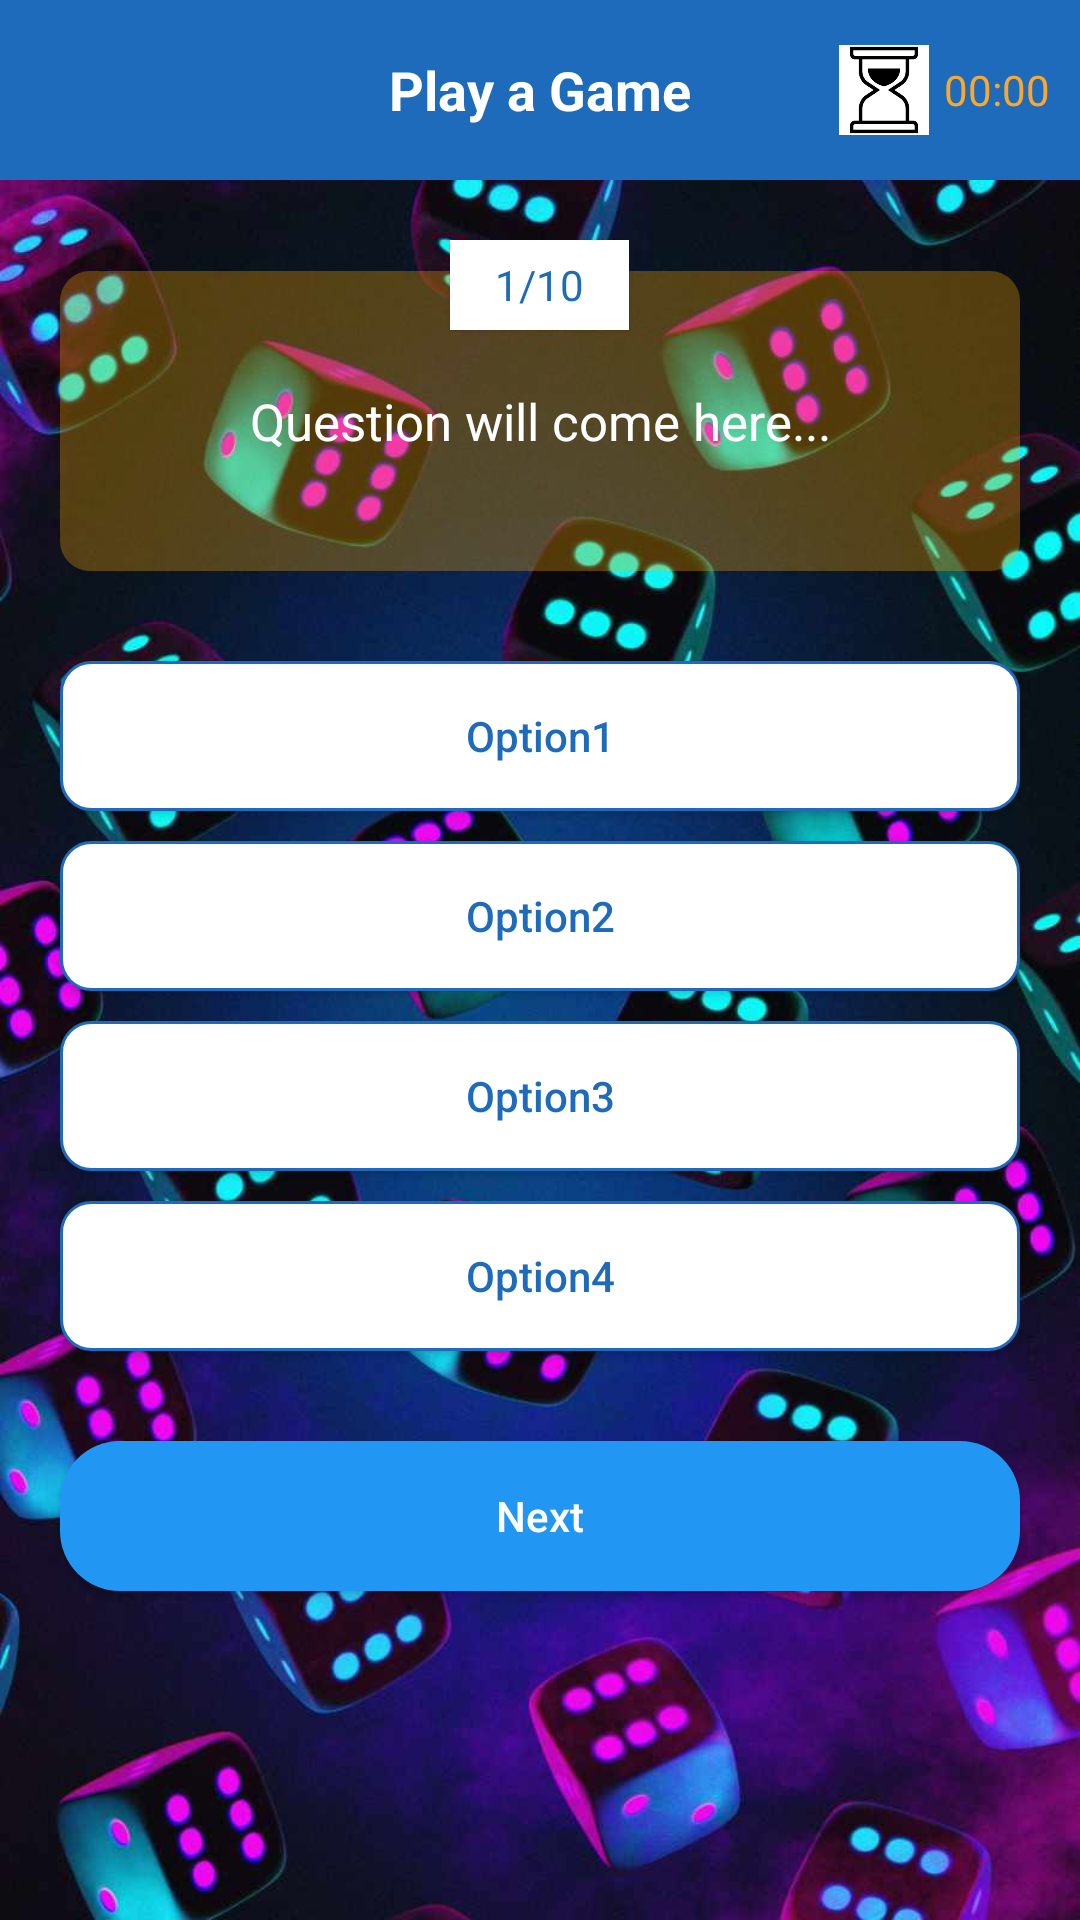

Icons on this 1080px×1920px Android screen, each with its box as (x1, y1, x2, y2):
timer: (839, 45, 929, 135)
